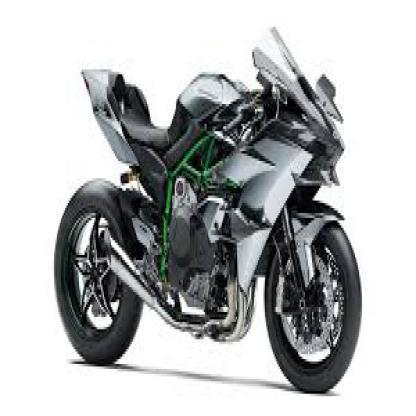Motorcycle: (47, 16, 365, 396)
